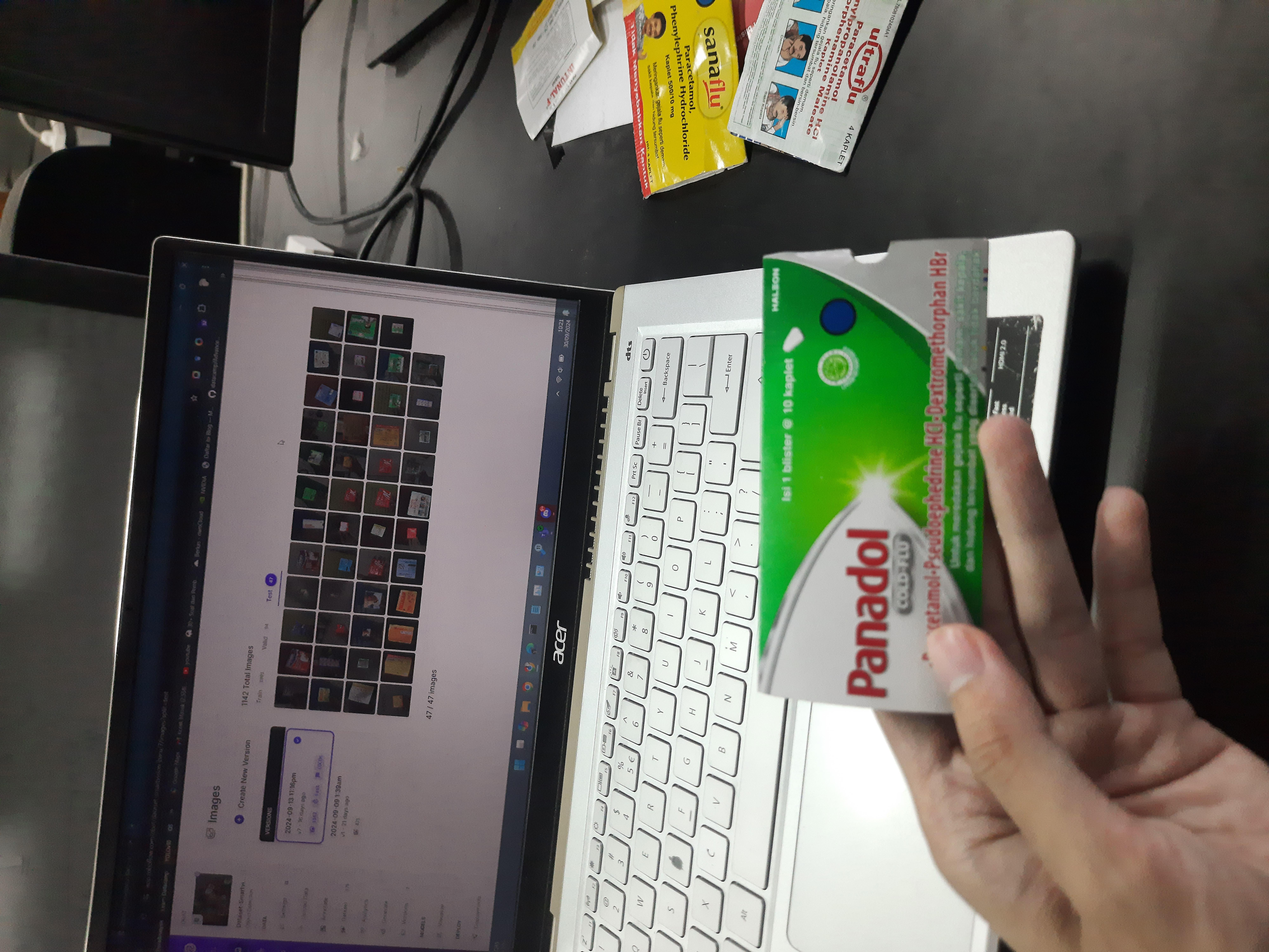Panadol Cold Flu: (318, 568, 950, 741)
Sanaflu: (1004, 467, 1269, 561)
Ultraflu: (1039, 546, 1269, 682)
